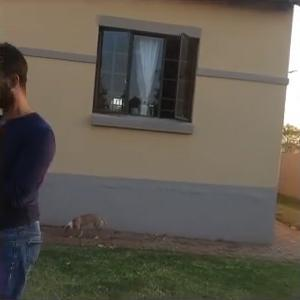follow: (0, 40, 61, 298)
null: (60, 209, 118, 242)
